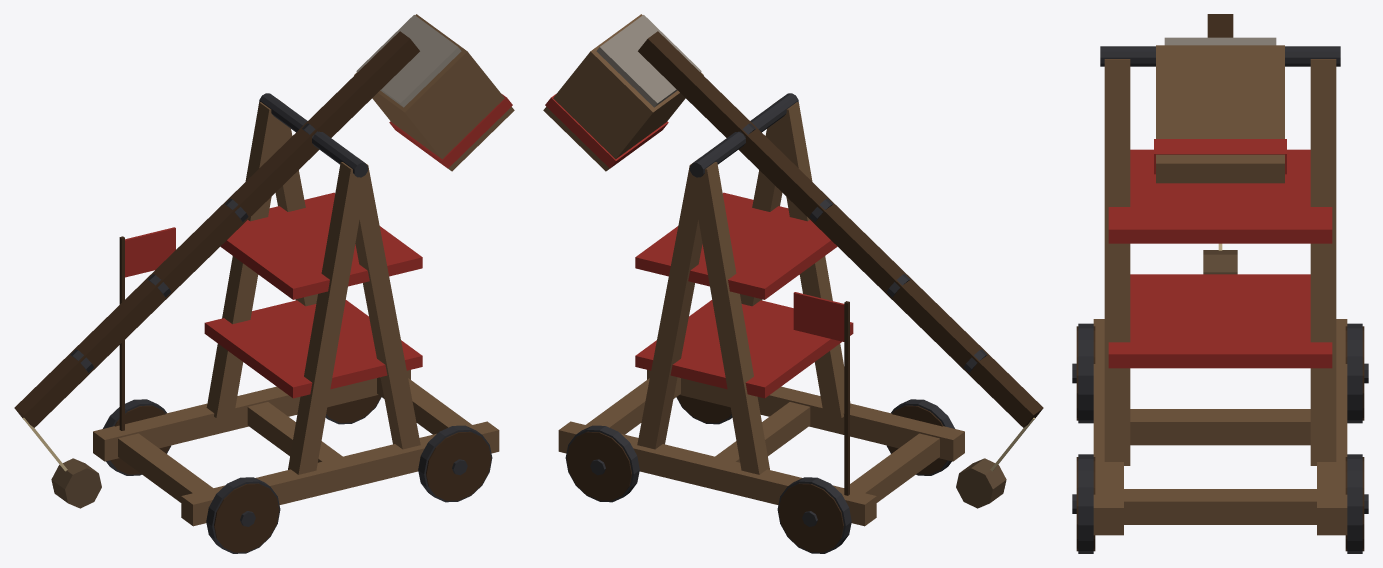
Rendered from manjaniq_rus.glb.
3 renders of one model, left to right at view 1: azimuth 30°, elevation 25°; view 2: azimuth 150°, elevation 25°; view 3: azimuth 270°, elevation 25°, orthographic. The views are drawn at different scales.
Parts seen in each view (by area): view 1: Body, Arm; view 2: Body, Arm; view 3: Body, Arm.
Boxes of the visible parts, bbox=[...] form: Body: bbox=[93, 93, 499, 553]; Arm: bbox=[14, 14, 514, 508]; Body: bbox=[558, 93, 964, 553]; Arm: bbox=[543, 14, 1043, 508]; Body: bbox=[1072, 46, 1368, 553]; Arm: bbox=[1154, 14, 1286, 274].
Bounding box in the file's own units: 7.98 × 6.9 × 3.45.
